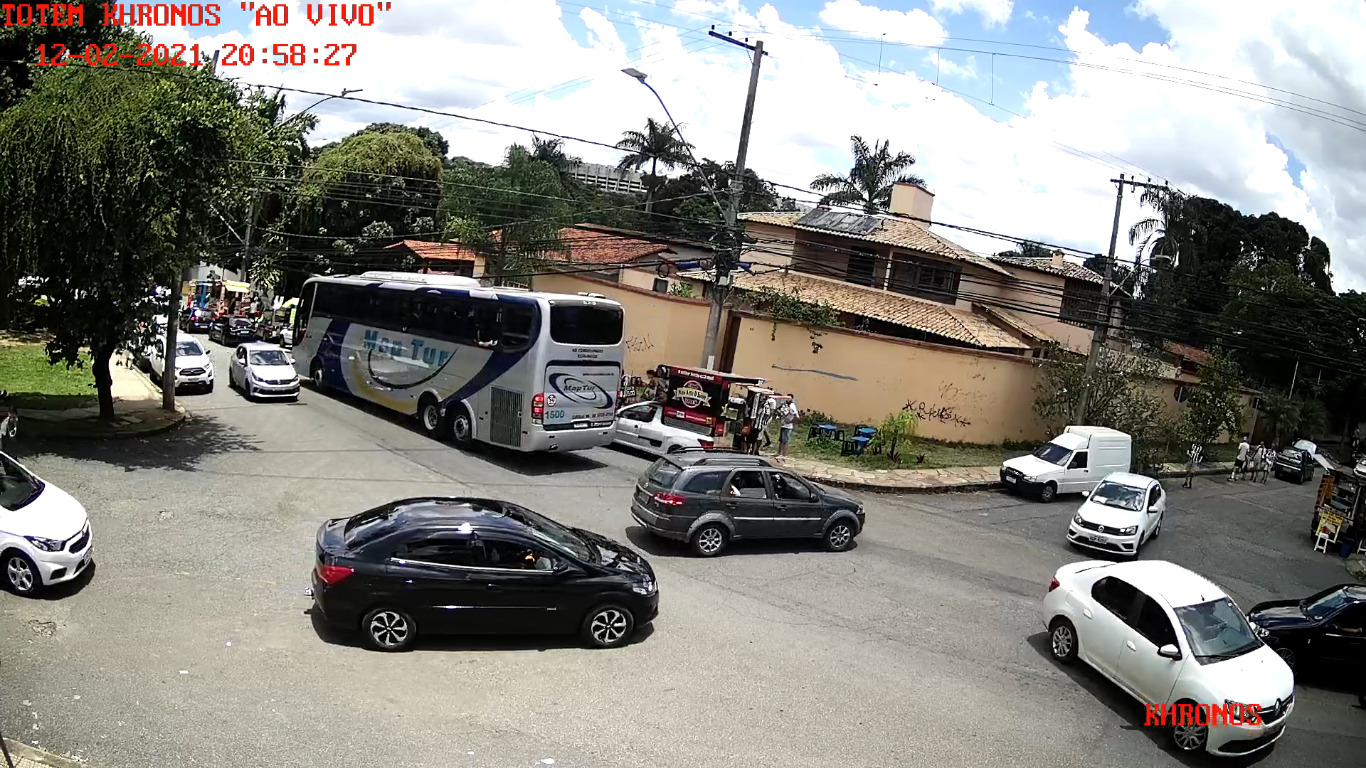car: (312, 495, 661, 660), (1041, 557, 1296, 765), (632, 447, 868, 557), (1, 445, 94, 595), (1066, 470, 1167, 559)
